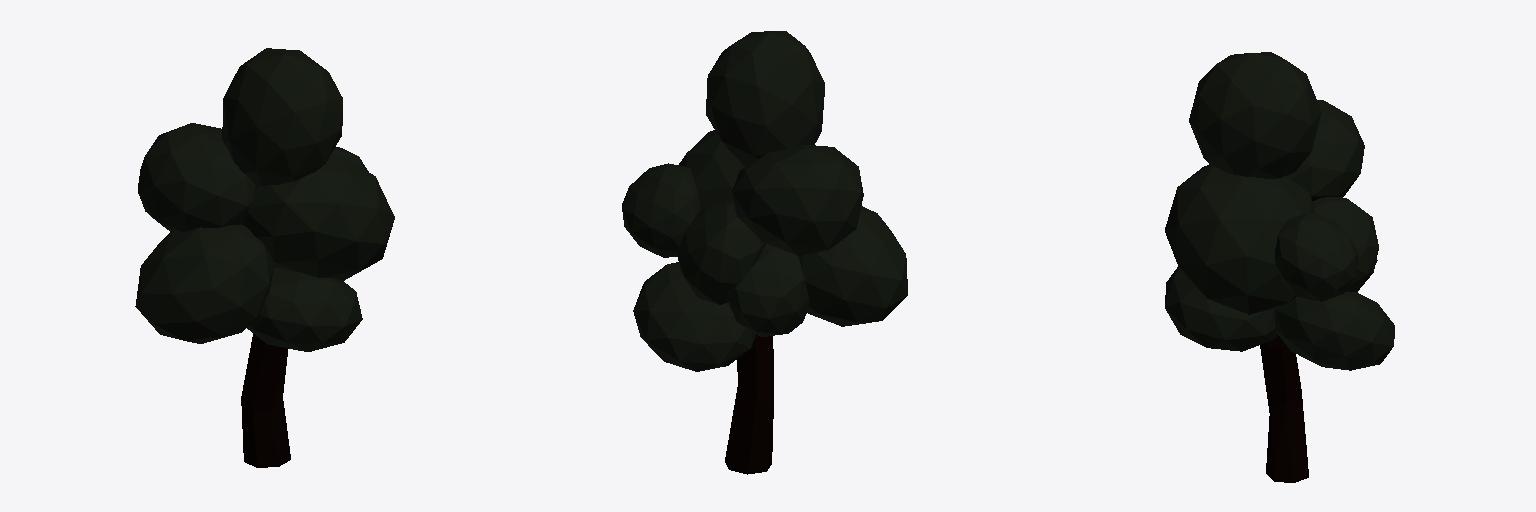
Rendered from Tree_B.obj.
The picture shows the model from 3 angles: view 1: azimuth 30°, elevation 25°; view 2: azimuth 150°, elevation 25°; view 3: azimuth 270°, elevation 25°; orthographic projection.
Visible parts, largest first — view 1: Tree_B; view 2: Tree_B; view 3: Tree_B.
Part boxes in pixels (bbox=[...]): Tree_B: bbox=[135, 48, 394, 467]; Tree_B: bbox=[622, 31, 907, 474]; Tree_B: bbox=[1165, 52, 1394, 482].
Bounding box in the file's own units: 11.5 × 18.56 × 9.27.